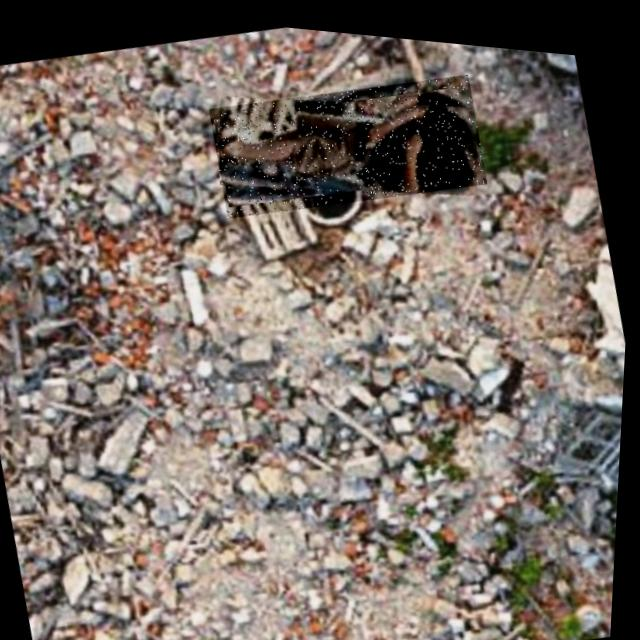Person in Rubble: (204, 46, 492, 233)
